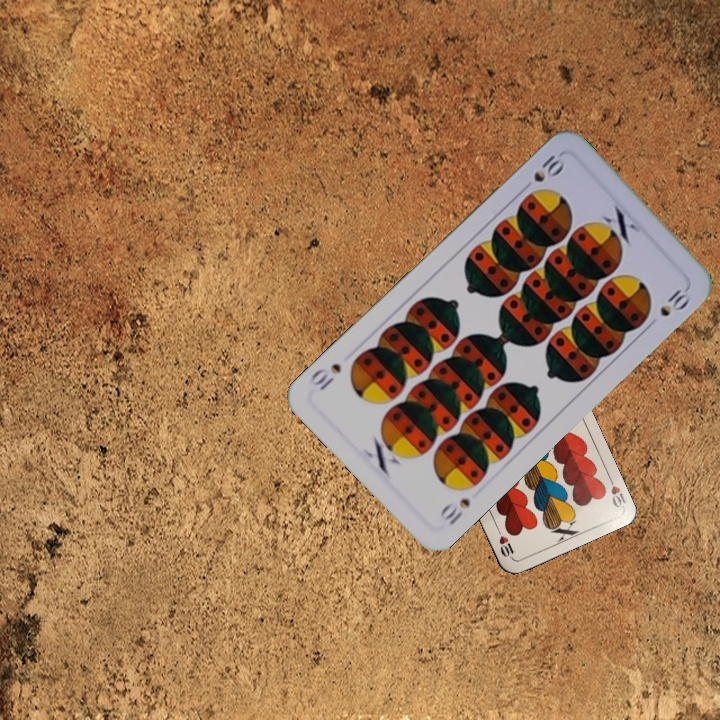H10: (604, 470, 628, 510)
S10: (517, 150, 567, 195), (436, 494, 473, 528)
